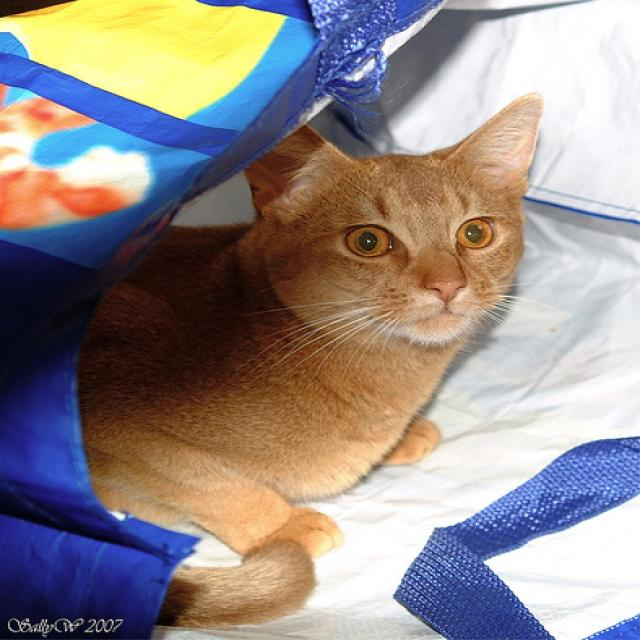cat: (243, 90, 542, 340)
